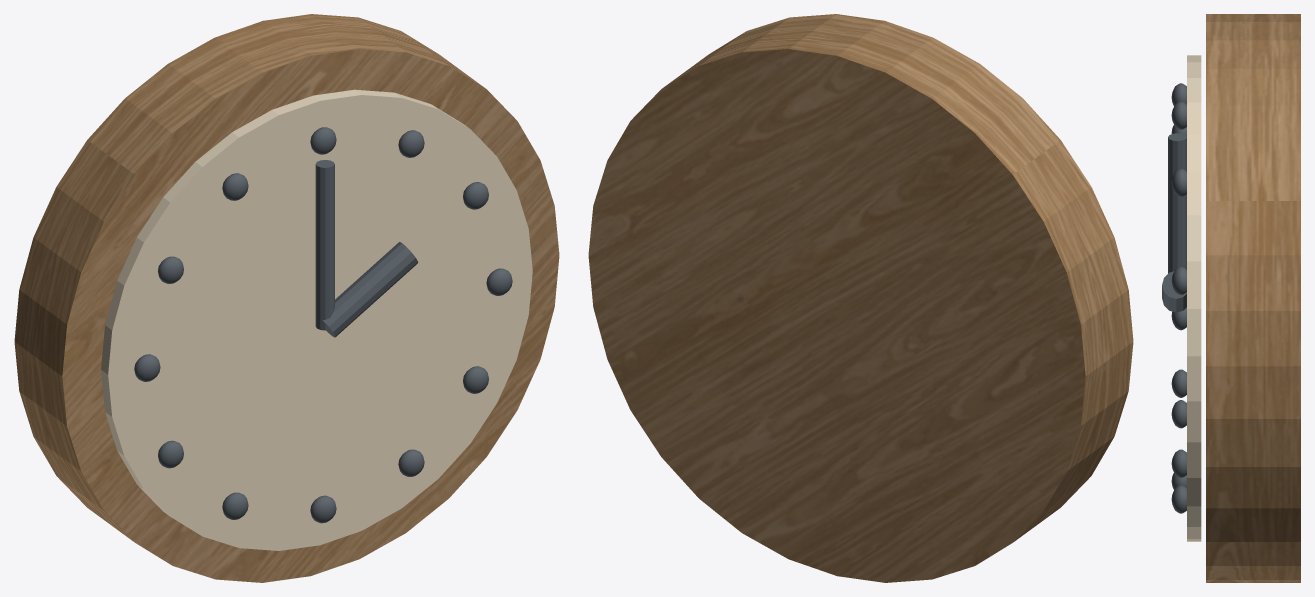
File: wall_clock_black.glb
The picture shows the model from 3 angles, left to right: view 1: azimuth 30°, elevation 25°; view 2: azimuth 150°, elevation 25°; view 3: azimuth 270°, elevation 25°; orthographic projection.
Visible parts, largest first — view 1: dial, case, minute hand, hour hand; view 2: case; view 3: case, dial, minute hand, hour hand, hour mark, hour mark.001, hour mark.007, hour mark.003, hour mark.004, hour mark.005, hour mark.002, hour mark.011 (+1 smaller).
Boxes of the visible parts, left/top/right/bottom form: dial: left=101, top=89, right=532, bottom=550; case: left=14, top=14, right=559, bottom=582; minute hand: left=315, top=160, right=334, bottom=330; hour hand: left=323, top=242, right=417, bottom=337; case: left=588, top=14, right=1133, bottom=582; case: left=1206, top=14, right=1300, bottom=582; dial: left=1187, top=55, right=1201, bottom=541; minute hand: left=1168, top=133, right=1186, bottom=273; hour hand: left=1162, top=271, right=1186, bottom=312; hour mark: left=1171, top=101, right=1186, bottom=129; hour mark.001: left=1171, top=168, right=1186, bottom=196; hour mark.007: left=1171, top=400, right=1186, bottom=428; hour mark.003: left=1171, top=369, right=1186, bottom=397; hour mark.004: left=1171, top=449, right=1186, bottom=477; hour mark.005: left=1171, top=485, right=1186, bottom=513; hour mark.002: left=1171, top=266, right=1186, bottom=294; hour mark.011: left=1171, top=83, right=1186, bottom=106.
Size of the model in its own units: 0.48 by 0.48 by 0.117.
3 materials, 1 textured.
